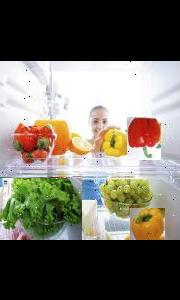Lechuga/Endivia: (0, 177, 82, 240)
